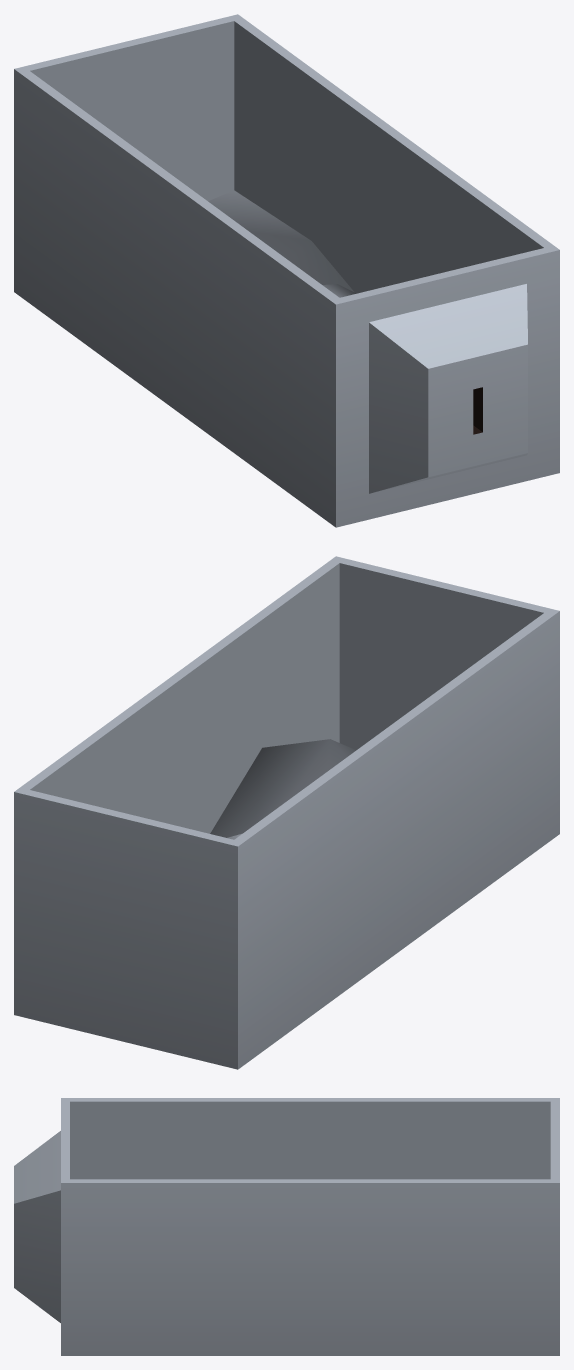
Rendered from DryerWasher_CoinCollector_2_Standalone_Laundromat.fbx.
3 views of the same model, one above another, from view 1: azimuth 30°, elevation 25°; view 2: azimuth 150°, elevation 25°; view 3: azimuth 270°, elevation 25° (orthographic). The views are drawn at different scales.
Parts seen in each view (by area): view 1: DryerWasher_CoinCollector_2_Standalone.Laundromat, DryerWasher_CoinCollector_2_Standalone_Coins.Laundromat; view 2: DryerWasher_CoinCollector_2_Standalone.Laundromat, DryerWasher_CoinCollector_2_Standalone_Coins.Laundromat; view 3: DryerWasher_CoinCollector_2_Standalone.Laundromat.
Part boxes in pixels (x1=…): DryerWasher_CoinCollector_2_Standalone.Laundromat: x1=14, y1=14, x2=559, y2=527; DryerWasher_CoinCollector_2_Standalone_Coins.Laundromat: x1=208, y1=190, x2=356, y2=297; DryerWasher_CoinCollector_2_Standalone.Laundromat: x1=14, y1=556, x2=559, y2=1069; DryerWasher_CoinCollector_2_Standalone_Coins.Laundromat: x1=210, y1=739, x2=355, y2=839; DryerWasher_CoinCollector_2_Standalone.Laundromat: x1=14, y1=1098, x2=559, y2=1355.
Size of the model in its own units: 13.52 by 12.86 by 36.8.
1 material, 1 textured.
